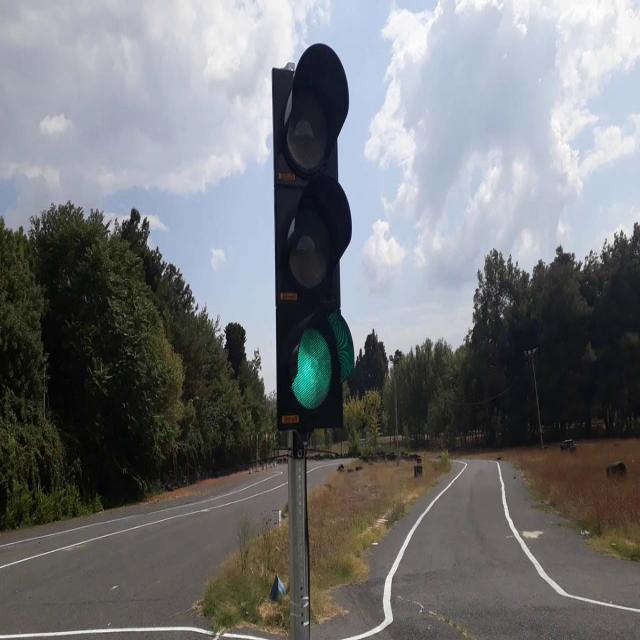yesil: (270, 44, 354, 432)
